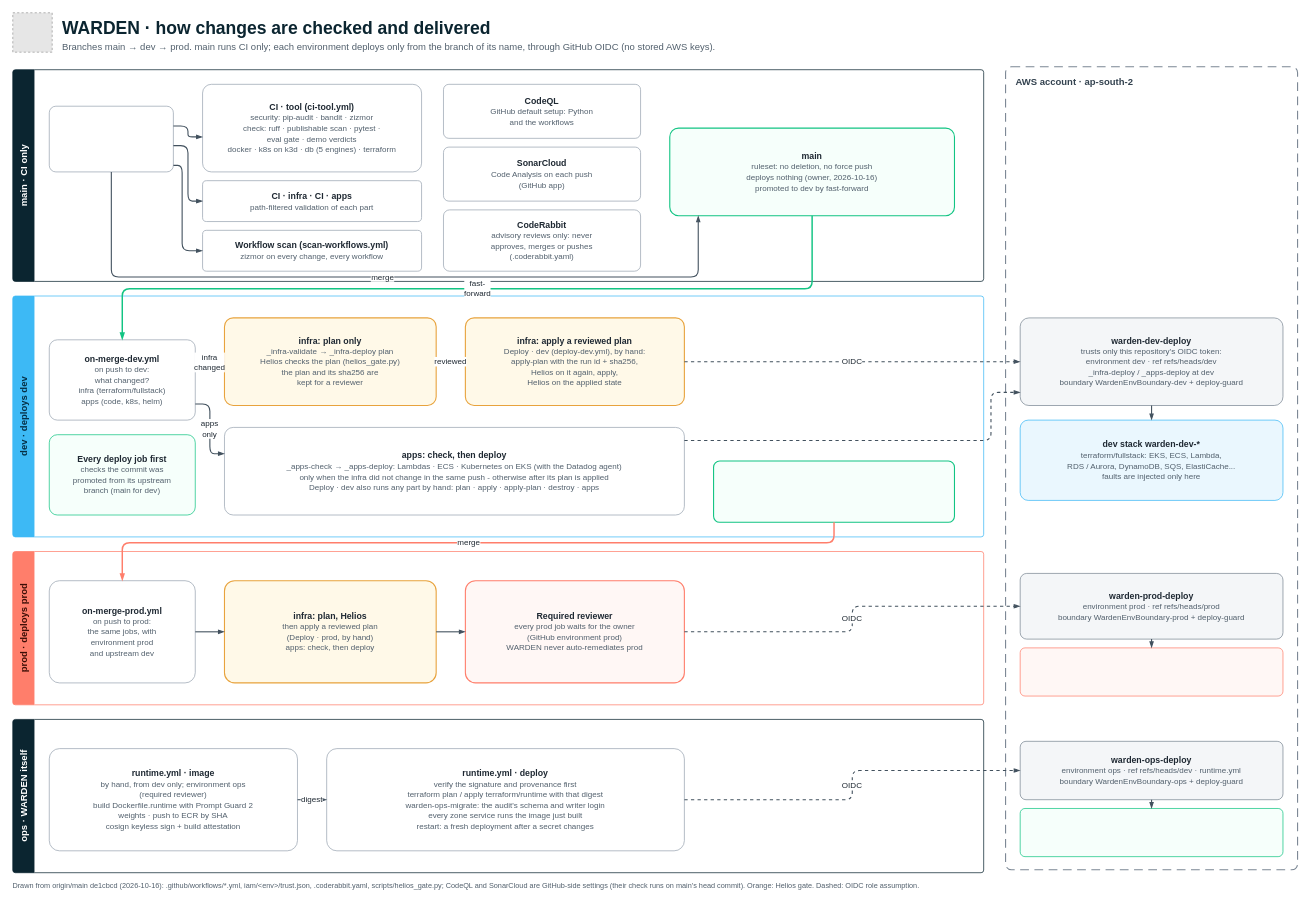
Some shapes in this 1311 by 912 pixel diagram are drawn without their labels. Grey dashed boxes stand in for pictures. Here are the shapes that lost their labels. From the top down, the centre of each, then its label:
At (x=111, y=138): "Pull request into main; actions pinned to a commit SHA".
At (x=834, y=491): "dev → prod by pull request: dev merged into prod".
At (x=1151, y=671): "prod stack warden-prod-* same shape as dev".
At (x=1151, y=832): "WARDEN runtime warden-ops-* see architecture-detailed".
